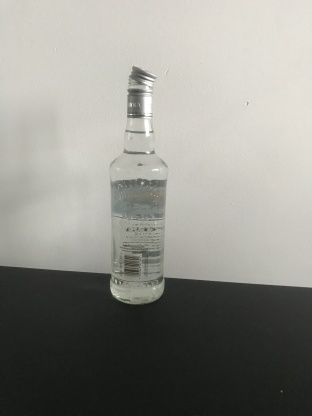nakretka: (124, 63, 158, 117)
